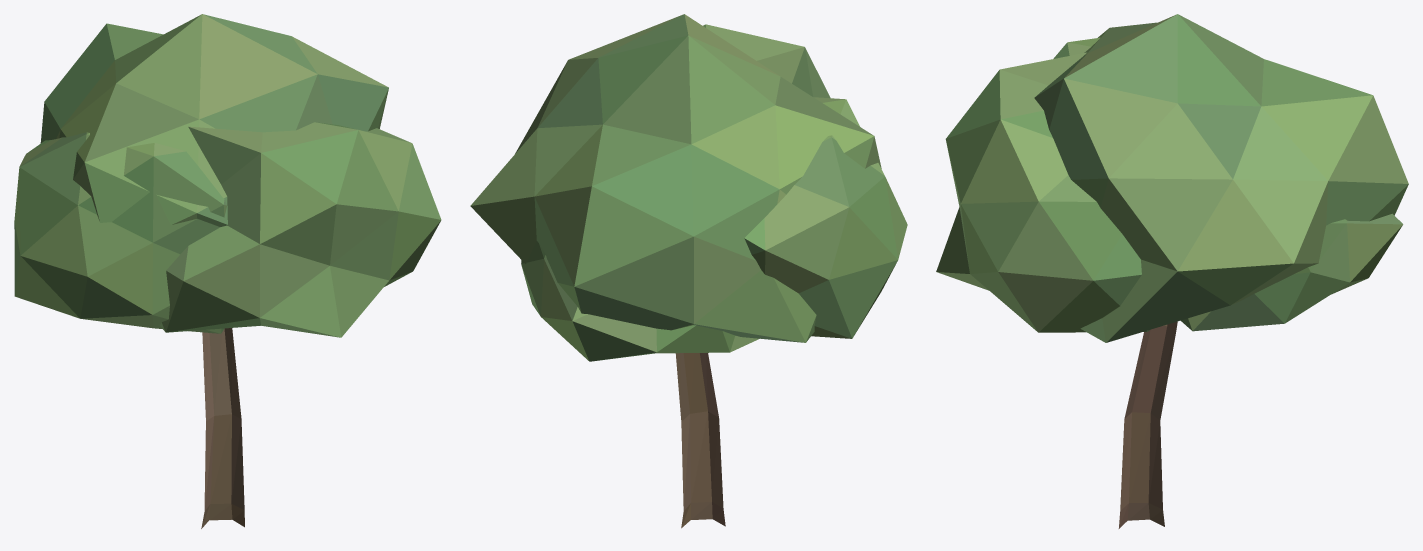
File: Tree_Broadleaf_02.glb
3 views of the same model, side by side, from view 1: azimuth 30°, elevation 25°; view 2: azimuth 150°, elevation 25°; view 3: azimuth 270°, elevation 25° (orthographic). The views are drawn at different scales.
Visible parts, largest first — view 1: Tree_Broadleaf_02; view 2: Tree_Broadleaf_02; view 3: Tree_Broadleaf_02.
Boxes of the visible parts, box(x1,y1,x2,y2) form: Tree_Broadleaf_02: box(14, 14, 441, 528); Tree_Broadleaf_02: box(470, 14, 907, 528); Tree_Broadleaf_02: box(936, 14, 1408, 528).
Size of the model in its own units: 6.65 by 8.61 by 7.19.
